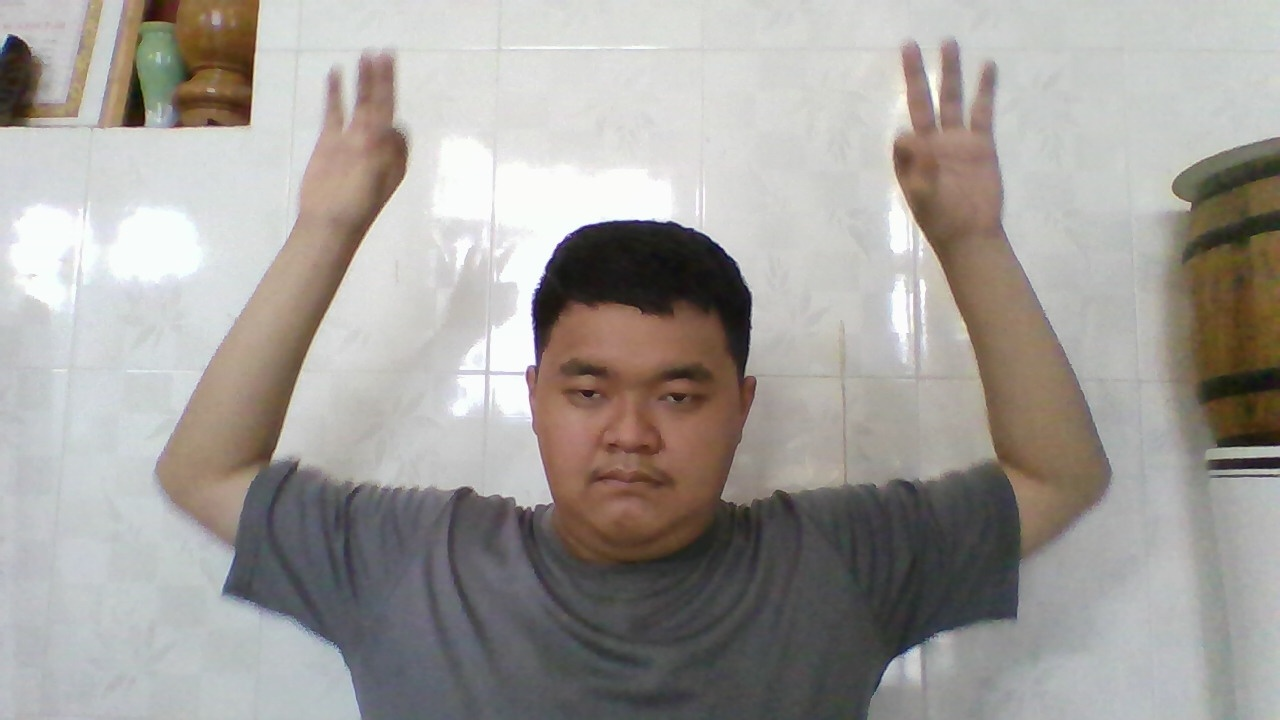T: (891, 31, 1007, 250), (309, 41, 410, 239)
